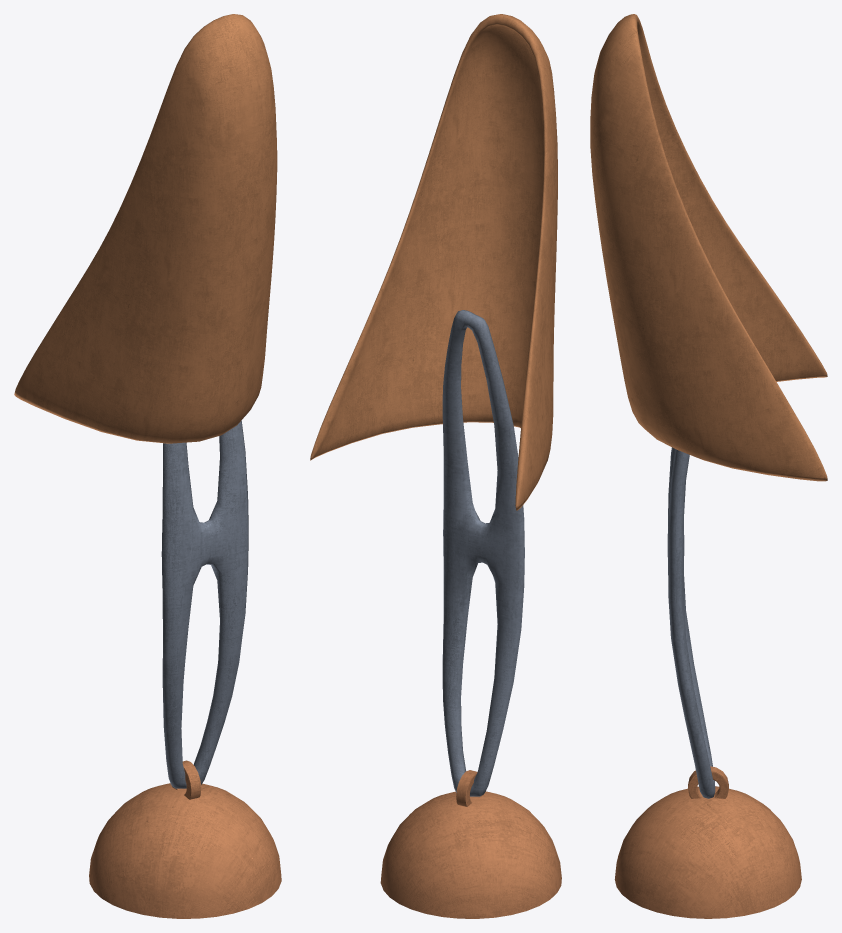
File: Building_02_Leg_01.gltf
3 renders of one model, left to right at view 1: azimuth 30°, elevation 25°; view 2: azimuth 150°, elevation 25°; view 3: azimuth 270°, elevation 25°, orthographic. The views are drawn at different scales.
Parts seen in each view (by area): view 1: Building_02_Legs_01, Building_02_Legs_01_Bottom, Building_02_Legs_01_Mid; view 2: Building_02_Legs_01, Building_02_Legs_01_Mid, Building_02_Legs_01_Bottom; view 3: Building_02_Legs_01, Building_02_Legs_01_Bottom, Building_02_Legs_01_Mid.
Boxes of the visible parts, <box> form: Building_02_Legs_01: <box>14,14,277,443</box>; Building_02_Legs_01_Bottom: <box>89,760,281,918</box>; Building_02_Legs_01_Mid: <box>161,420,248,788</box>; Building_02_Legs_01: <box>310,14,557,510</box>; Building_02_Legs_01_Mid: <box>442,310,524,796</box>; Building_02_Legs_01_Bottom: <box>380,770,561,918</box>; Building_02_Legs_01: <box>590,14,827,481</box>; Building_02_Legs_01_Bottom: <box>614,766,801,918</box>; Building_02_Legs_01_Mid: <box>667,447,715,798</box>.
Bounding box in the file's own units: 0.5931 × 2.29 × 0.5716.
Materials: 3 (3 with a texture image).
